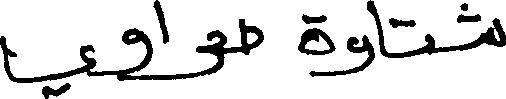X: (0, 31, 95, 98), (298, 9, 334, 81), (347, 0, 374, 78), (124, 23, 150, 84), (199, 25, 225, 80), (480, 11, 505, 51), (156, 0, 167, 84), (243, 14, 263, 59), (376, 4, 385, 61), (424, 29, 433, 59)
